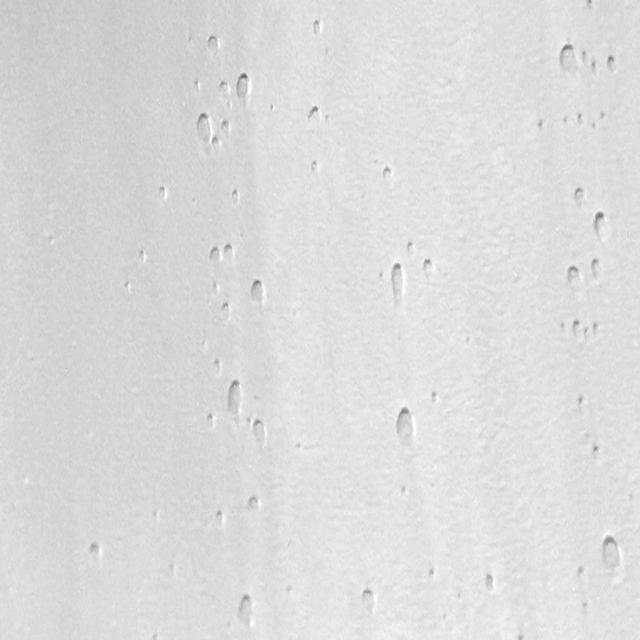pin holes: (596, 534, 624, 578), (391, 407, 419, 447), (385, 262, 410, 305), (234, 593, 258, 631), (556, 43, 582, 75), (225, 382, 246, 417), (233, 72, 254, 106), (193, 115, 214, 149), (357, 586, 379, 618), (246, 276, 268, 308), (592, 212, 614, 242), (248, 420, 268, 450), (304, 105, 324, 130), (566, 264, 585, 290), (590, 256, 608, 283), (569, 184, 588, 208), (481, 571, 499, 596), (86, 539, 104, 564), (244, 491, 262, 515), (207, 246, 223, 271), (573, 566, 589, 589), (420, 257, 436, 280), (218, 80, 234, 102), (214, 509, 230, 530), (380, 165, 396, 185), (219, 301, 234, 322), (310, 17, 324, 39), (572, 319, 586, 341), (220, 119, 236, 138), (580, 49, 595, 69), (206, 35, 220, 56), (158, 184, 172, 205), (404, 238, 418, 259), (607, 54, 621, 74), (577, 395, 590, 415), (224, 242, 237, 262), (308, 159, 322, 177), (428, 567, 442, 584), (591, 444, 604, 462), (136, 248, 149, 266), (212, 359, 225, 377), (230, 187, 242, 206), (205, 412, 218, 429), (590, 321, 602, 339), (430, 392, 443, 408), (537, 120, 549, 137), (212, 134, 224, 151), (399, 484, 411, 500), (557, 320, 569, 336), (212, 282, 224, 298), (167, 561, 177, 580), (285, 583, 298, 597), (576, 112, 588, 127), (589, 60, 600, 76), (583, 0, 597, 12), (581, 599, 592, 614), (194, 77, 203, 95), (123, 280, 134, 294), (598, 111, 608, 124), (269, 101, 279, 114), (152, 508, 158, 528), (466, 335, 471, 349)
